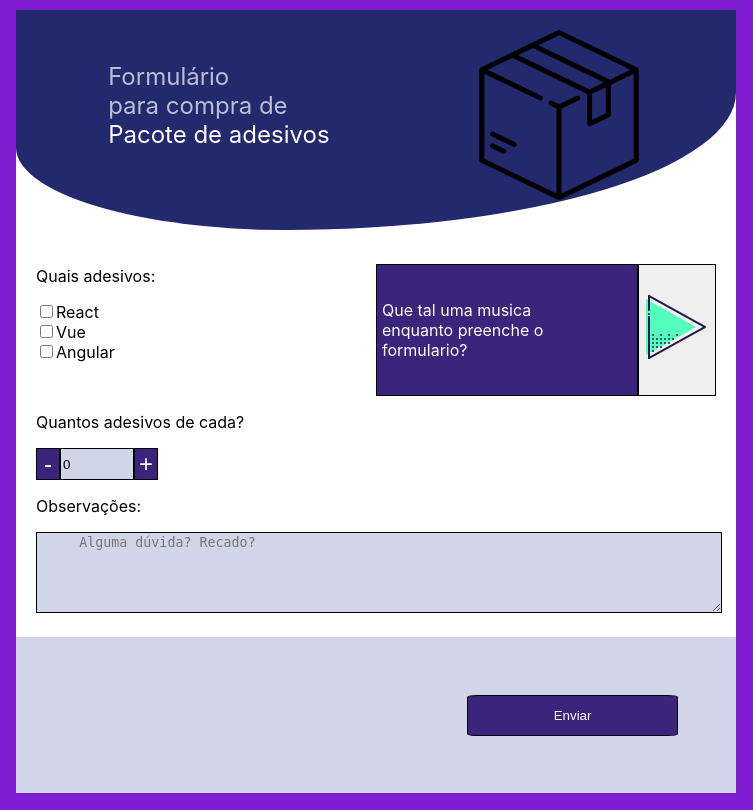
Test case: Testa Div de Escolha de Quantidade de adesivos › testa se ao clicar no botão + acrescenta 1 no input de valor
Expected: the field with test id "valueInput" holds "0", [60, 448, 134, 480]
What coordinates should you click on to do the following:
click the button "+"
I would click on:
 (146, 464)
Its box is [134, 448, 158, 480].
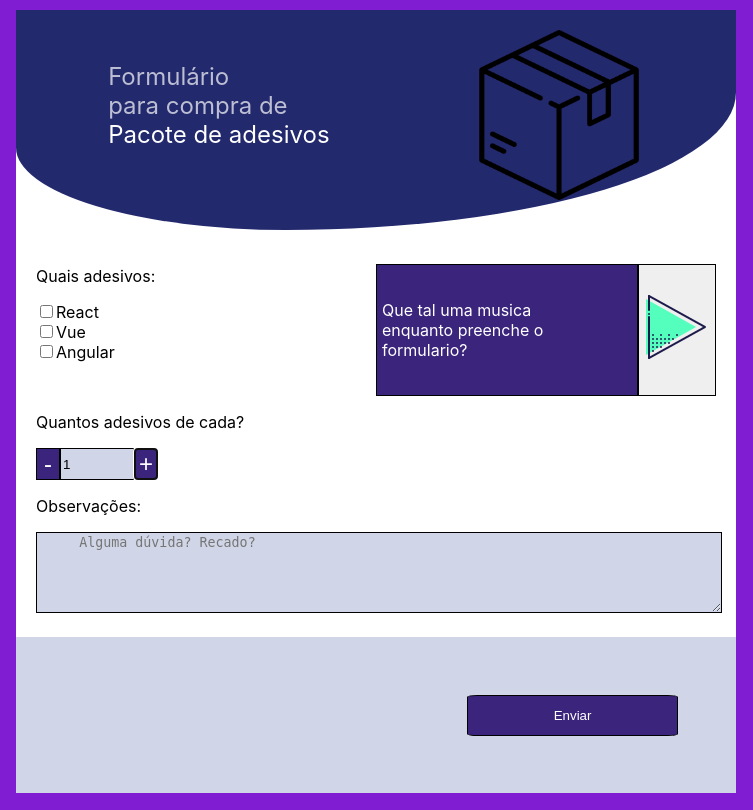
Expected: the field with test id "valueInput" holds "1", [60, 448, 134, 480]
